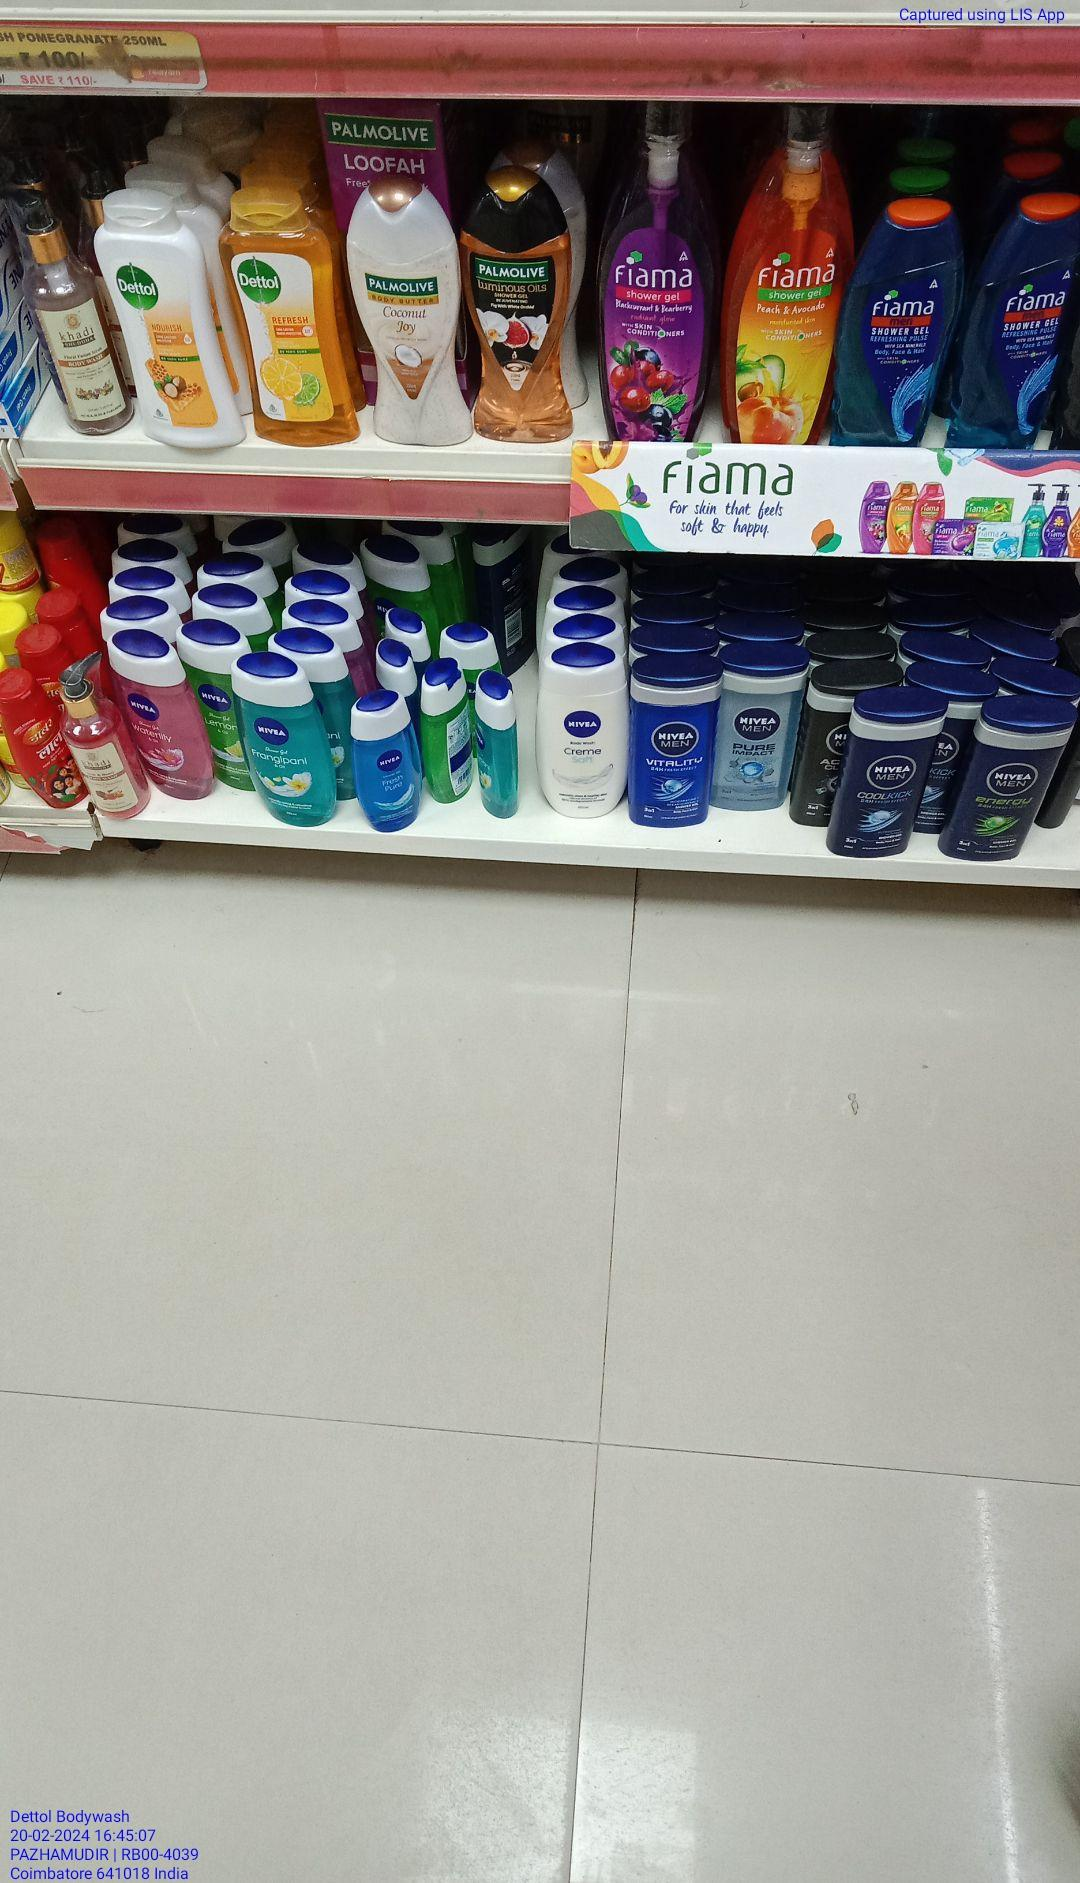Dettol_Bodywash_Refresh: (232, 191, 354, 440)
Dettol_Nourish_Body_Wash_250ML: (114, 191, 211, 440)
Nivea_Creme_Soft_Body_Wash_250ML: (538, 652, 629, 813)
Nivea_Shower_Gel_Frangipani_and_Oil_250ML: (235, 672, 322, 826)
Nivea_Shower_Gel_Waterlily_and_Oil_250ML: (138, 647, 193, 801)
Palmolive_Luminous_Oils_With_White_Orchid_Shower_Gel_250ML: (463, 178, 576, 447)
